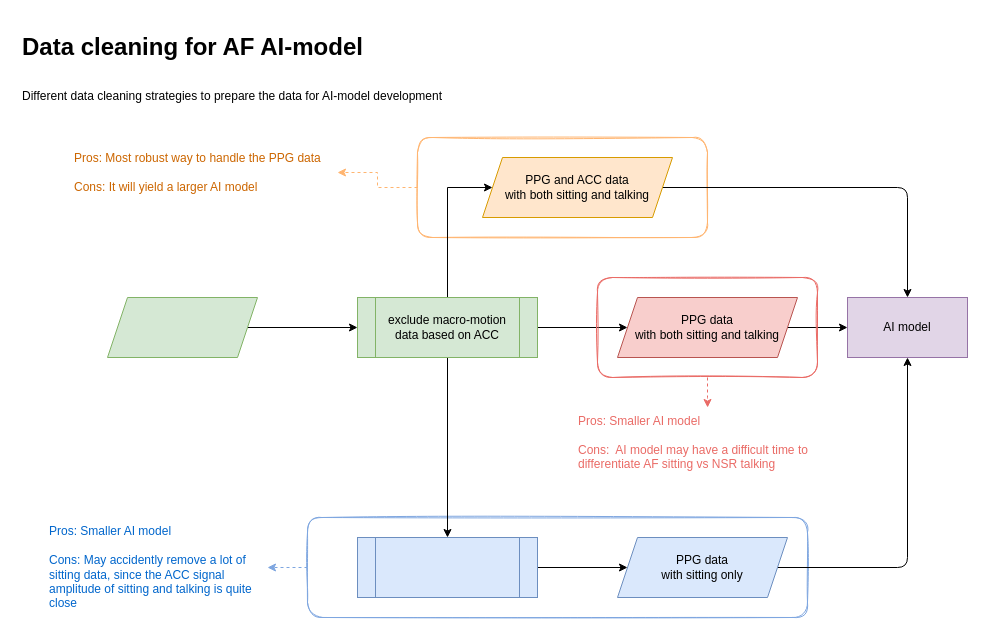
The diagram is 985 pixels wide and 635 high, and some of its shapes have lost their labels. Each missing label, with the centre of its shape:
exclude micro-motion data based on ACC: the point at 447,567
PPG and ACC data from field: the point at 182,327
